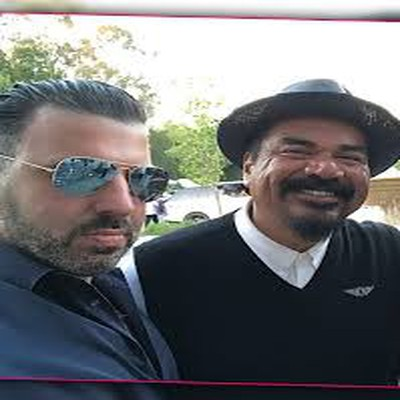eywear: (40, 158, 173, 217)
